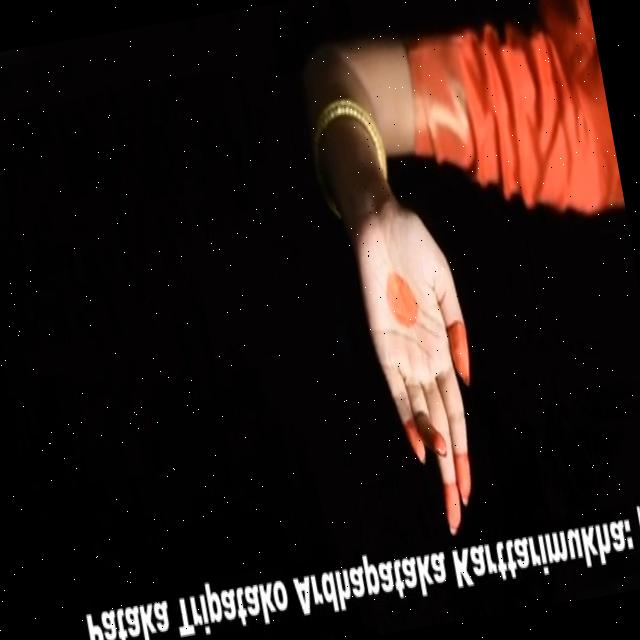Tripataka: (305, 16, 517, 547)
bangle: (287, 78, 406, 178)
text: (71, 486, 640, 640)
